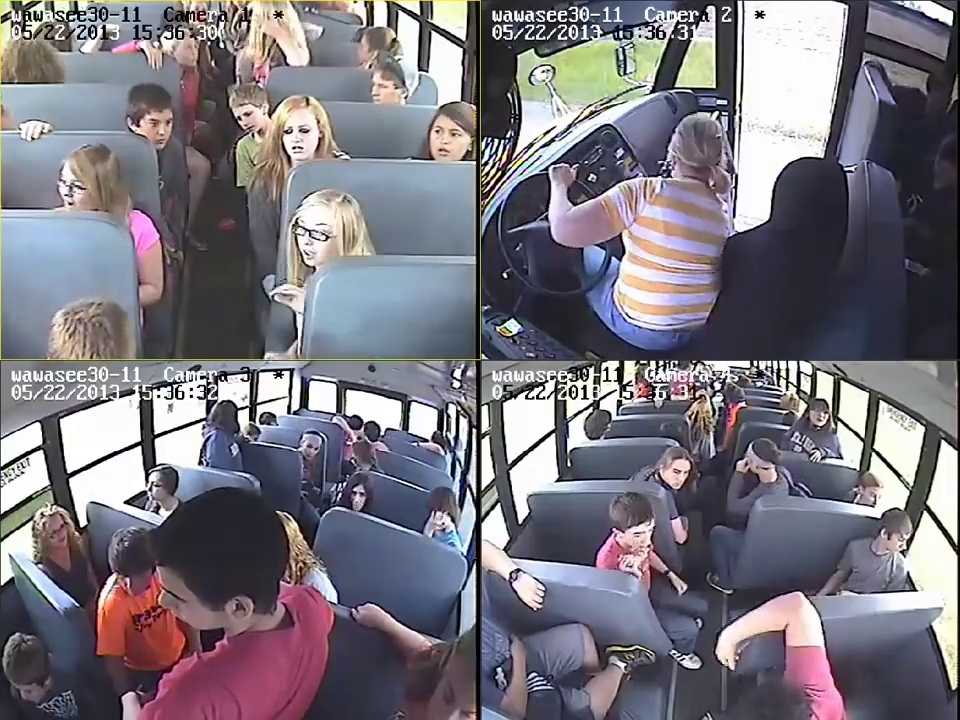face: (154, 565, 222, 632), (296, 210, 341, 263), (426, 120, 470, 162), (280, 113, 320, 158), (58, 164, 97, 208), (134, 112, 174, 150), (369, 74, 408, 107), (144, 468, 173, 502), (233, 100, 263, 131), (14, 674, 40, 705), (44, 520, 71, 548), (669, 457, 689, 488), (346, 485, 369, 511), (861, 483, 887, 505), (890, 531, 909, 553), (807, 408, 827, 428), (300, 438, 320, 458)
